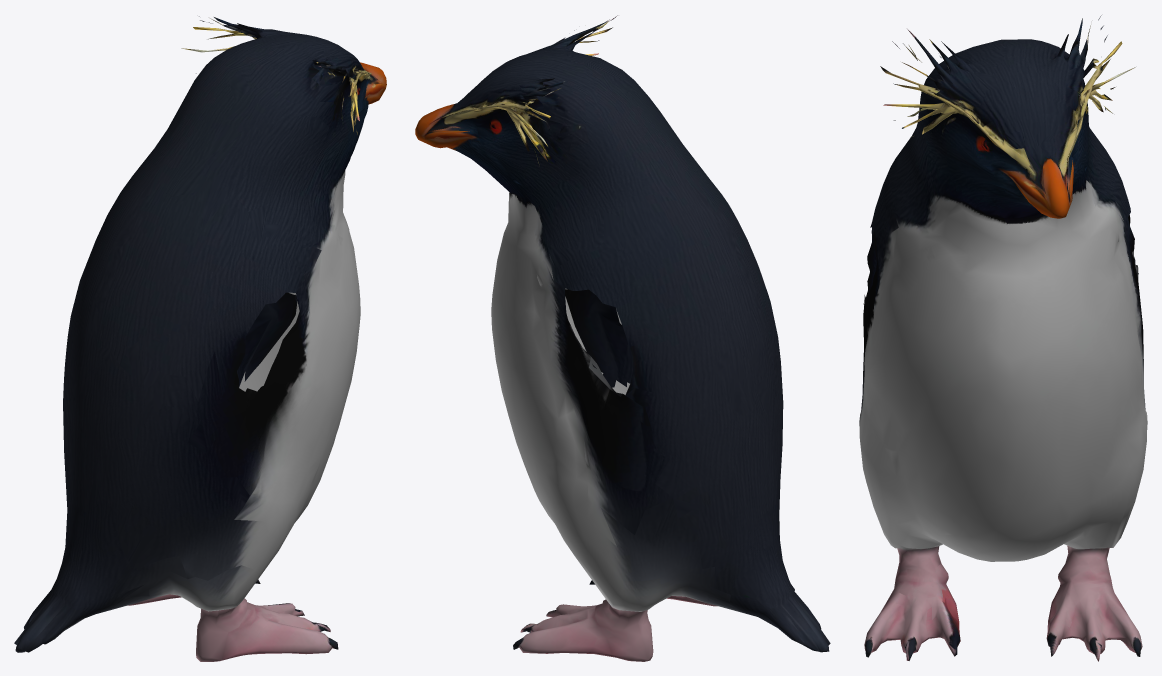
File: cuerpo.obj
3 views of the same model, side by side, from view 1: azimuth 30°, elevation 25°; view 2: azimuth 150°, elevation 25°; view 3: azimuth 270°, elevation 25° (orthographic). The views are drawn at different scales.
Parts seen in each view (by area): view 1: cuerpo; view 2: cuerpo; view 3: cuerpo.
Boxes of the visible parts, x1,y1,x2,y2 form: cuerpo: [14, 16, 386, 661]; cuerpo: [415, 15, 830, 661]; cuerpo: [859, 15, 1147, 661].
Bounding box in the file's own units: 0.7201 × 0.9946 × 0.413.
Materials: 1 (1 with a texture image).
